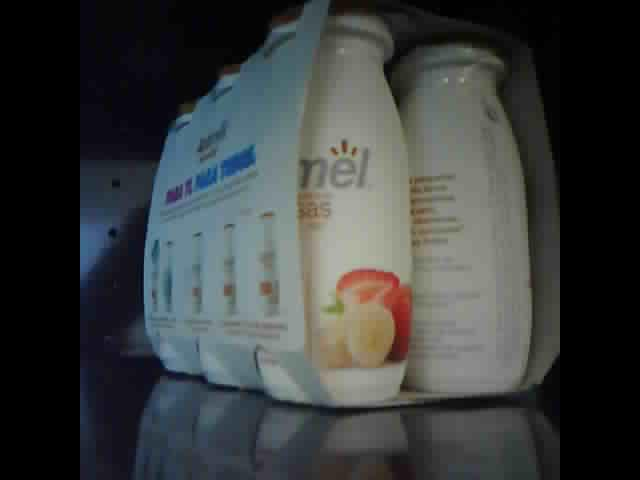actimel: (144, 1, 560, 412)
